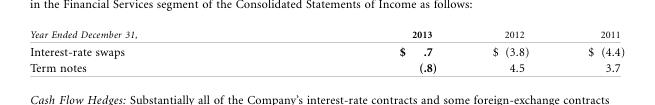table: (29, 28, 624, 73)
table column: (29, 28, 267, 73), (267, 28, 463, 73), (463, 28, 557, 73), (557, 28, 624, 73)
table column header: (29, 28, 624, 42)
table row: (29, 42, 624, 59), (29, 28, 624, 42), (29, 59, 624, 73)
